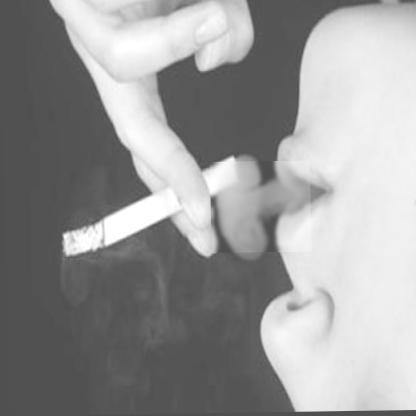smoke: (209, 161, 310, 254)
